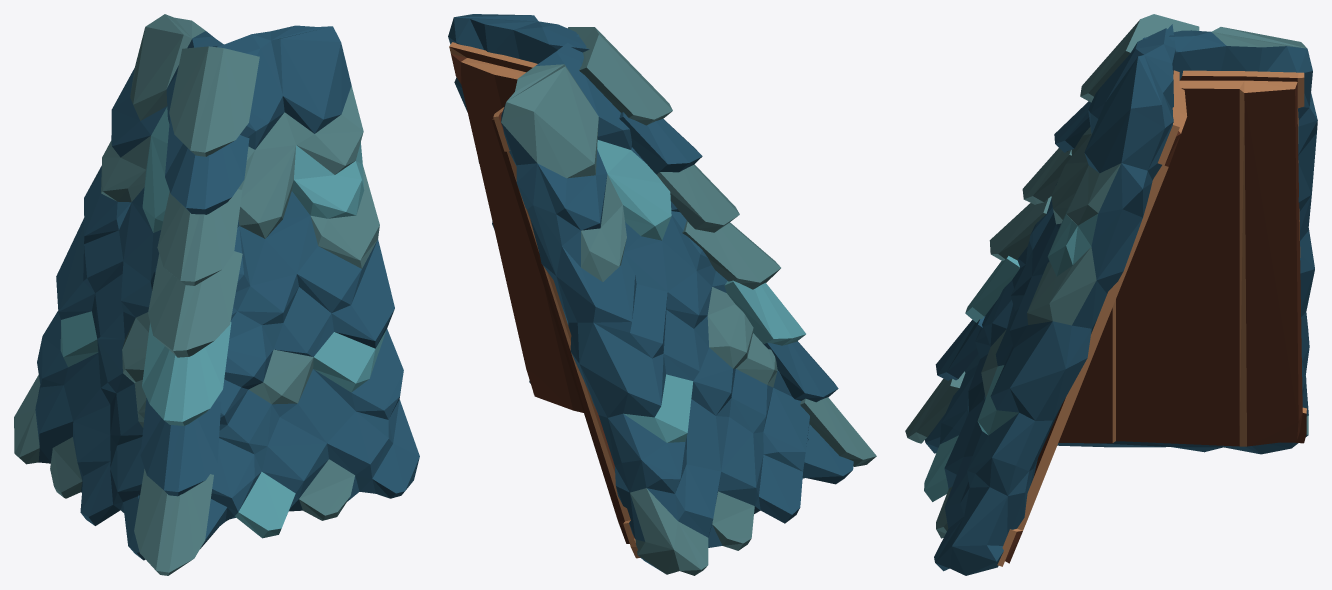
The model's file is MCastle_Roofs_00.FBX.
The picture shows the model from 3 angles, left to right: view 1: azimuth 30°, elevation 25°; view 2: azimuth 150°, elevation 25°; view 3: azimuth 270°, elevation 25°; orthographic projection. The views are drawn at different scales.
Visible parts, largest first — view 1: MCastle_Roofs_00_LOD0; view 2: MCastle_Roofs_00_LOD0; view 3: MCastle_Roofs_00_LOD0.
Part boxes in pixels (box(x1,y1,x2,y2)): MCastle_Roofs_00_LOD0: box(14, 14, 419, 575); MCastle_Roofs_00_LOD0: box(448, 14, 876, 575); MCastle_Roofs_00_LOD0: box(905, 14, 1317, 575).
Size of what is drawn, in the model's own units: 3.49 by 4.9 by 3.59.
